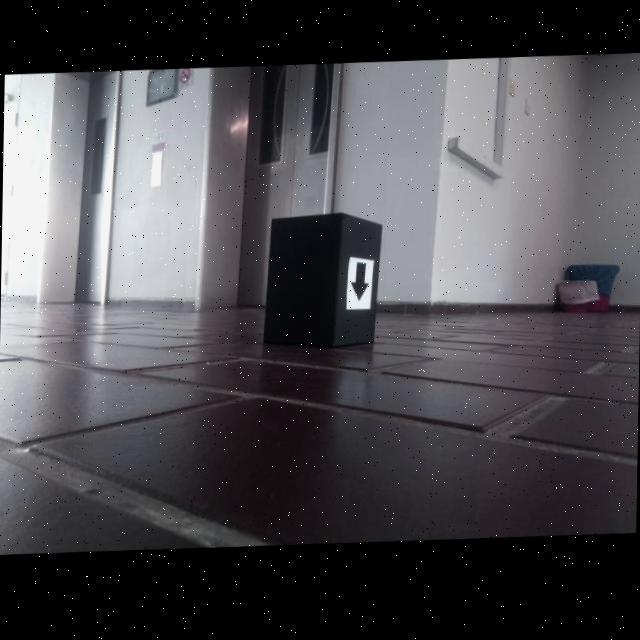DOWN: (349, 266, 369, 306)
